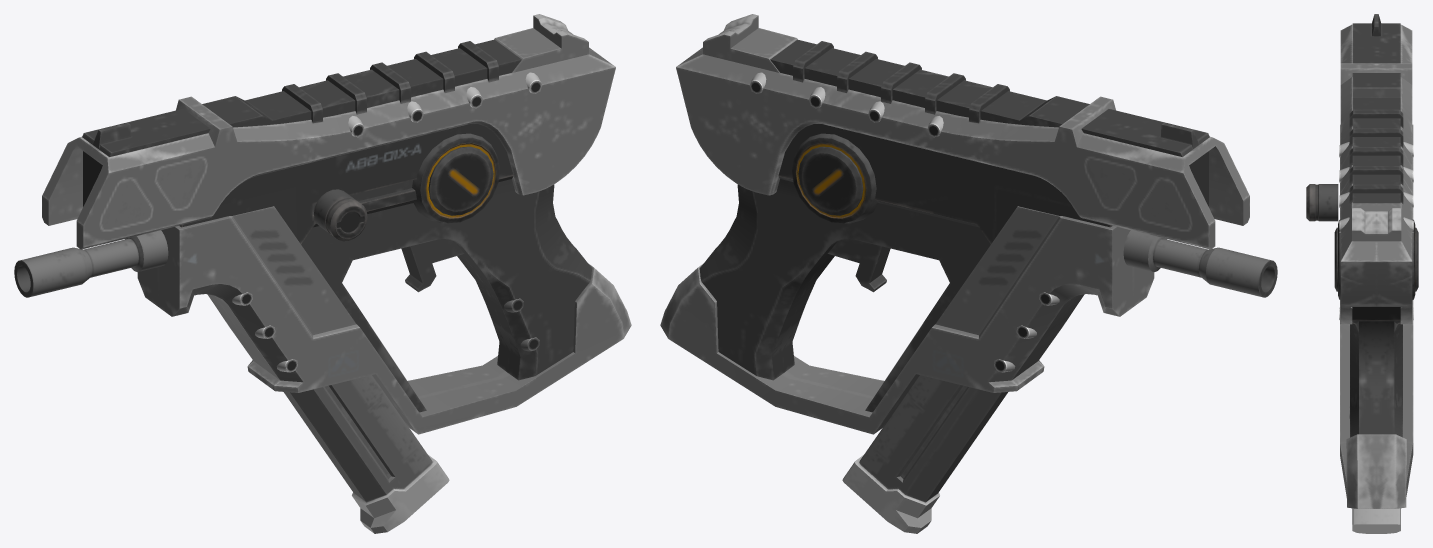
File: Gun_SMG.gltf
The picture shows the model from 3 angles, left to right: view 1: azimuth 30°, elevation 25°; view 2: azimuth 150°, elevation 25°; view 3: azimuth 270°, elevation 25°; orthographic projection. The views are drawn at different scales.
Parts seen in each view (by area): view 1: Gun_SMG; view 2: Gun_SMG; view 3: Gun_SMG.
Part boxes in pixels (box(x1,y1,x2,y2)): Gun_SMG: box(14, 14, 631, 533); Gun_SMG: box(660, 14, 1277, 533); Gun_SMG: box(1306, 14, 1418, 533).
Bounding box in the file's own units: 0.4828 × 0.3594 × 0.0902.
Materials: 1 (1 with a texture image).
